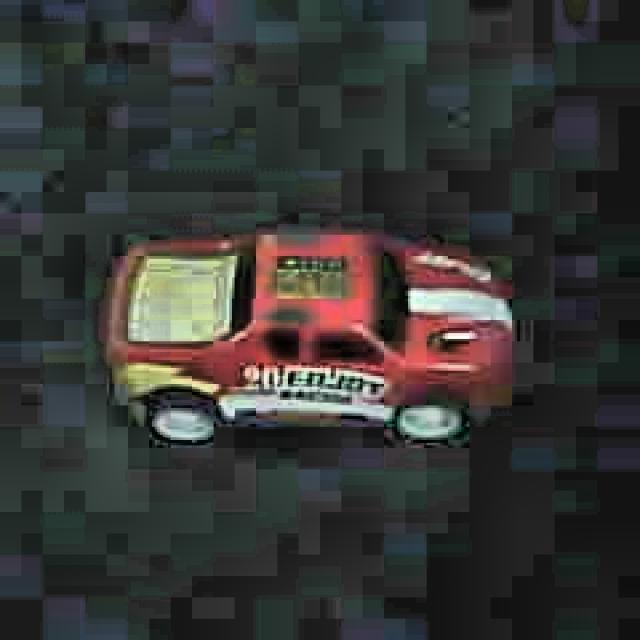car: (101, 226, 518, 461)
